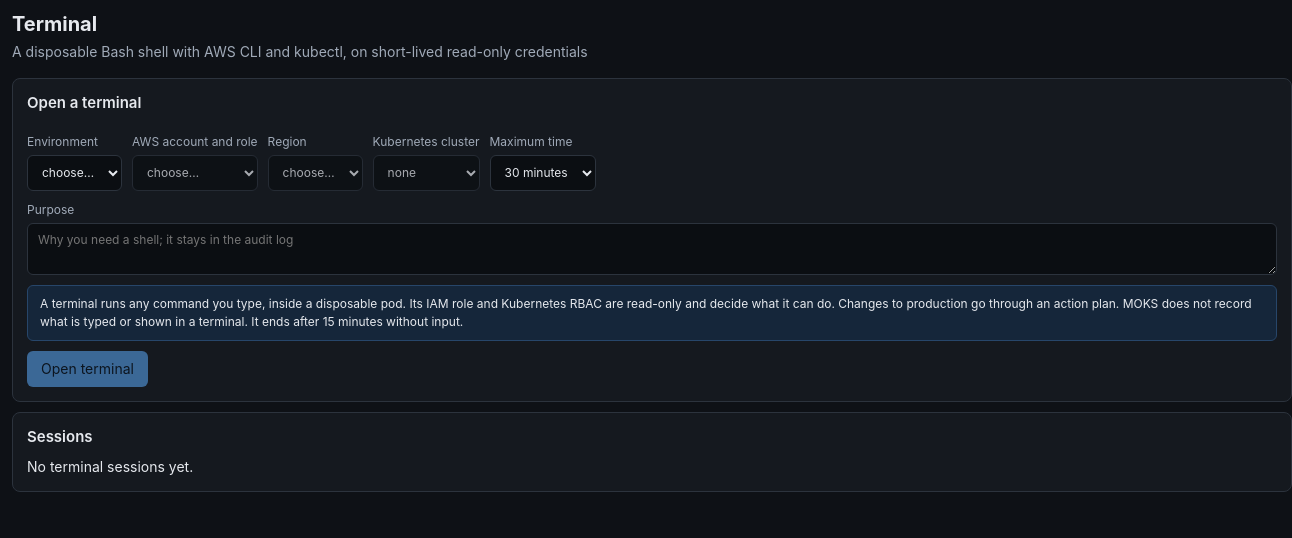
it: opening a terminal › makes every part of the scope a deliberate choice
This screenshot has width=1292, height=538.
Expected: the button "Open terminal" is disabled, [27,350,148,386]
Select "mk4" in the dropdown labelled "Environment" at [74, 172], box [27,154,122,190]
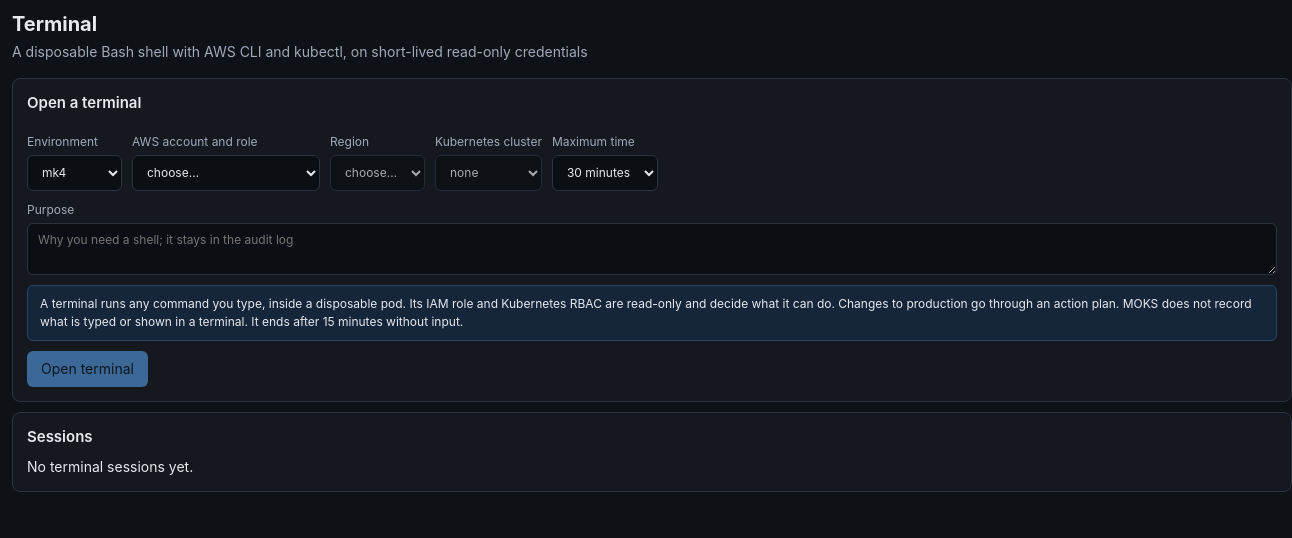
Select "111122223333 (read-only)" in the dropdown labelled "AWS account and role" at [226, 172], box [132,154,320,190]
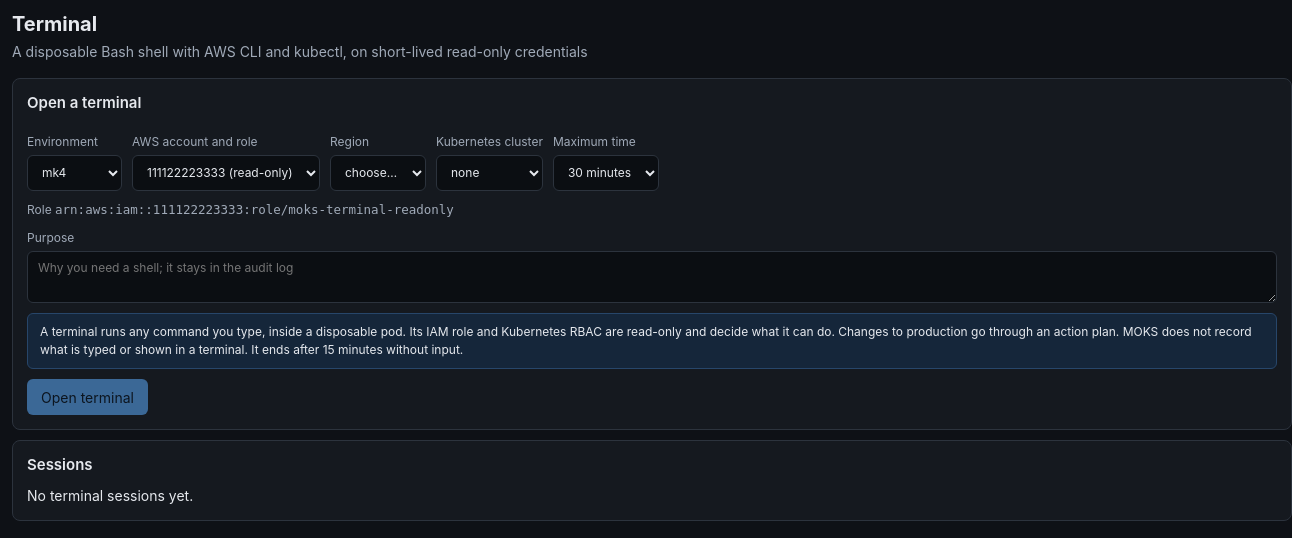
Select "us-east-1" in the dropdown labelled "Region" at [378, 172], box [330,154,426,190]
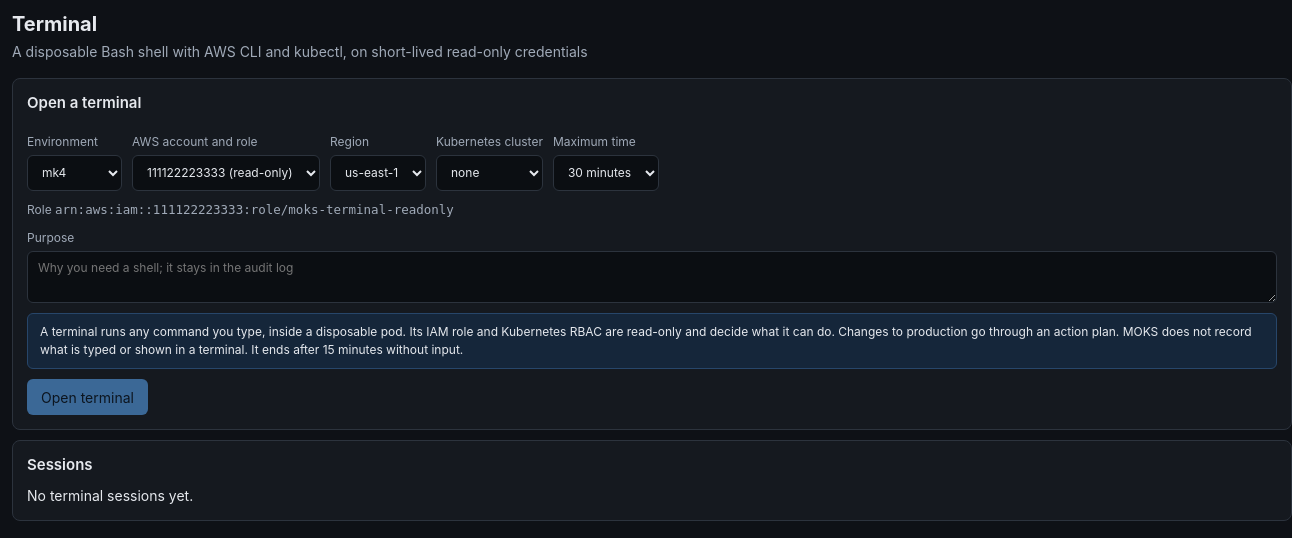
Expected: the button "Open terminal" is disabled, [27,379,148,415]
Type "Checking the rollout" into the text box labelled "Purpose" at [652, 277], box [27,251,1277,303]
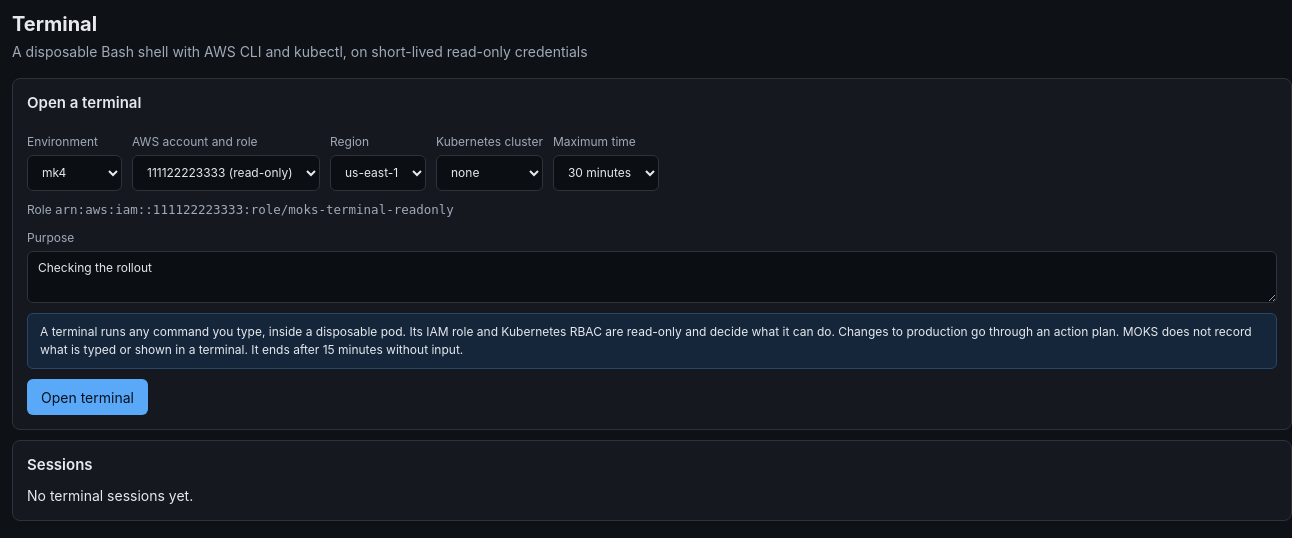
Expected: the text "does not record what is typed" is shown, [40,324,1252,357]
Expected: the button "Open terminal" is enabled, [27,379,148,415]
